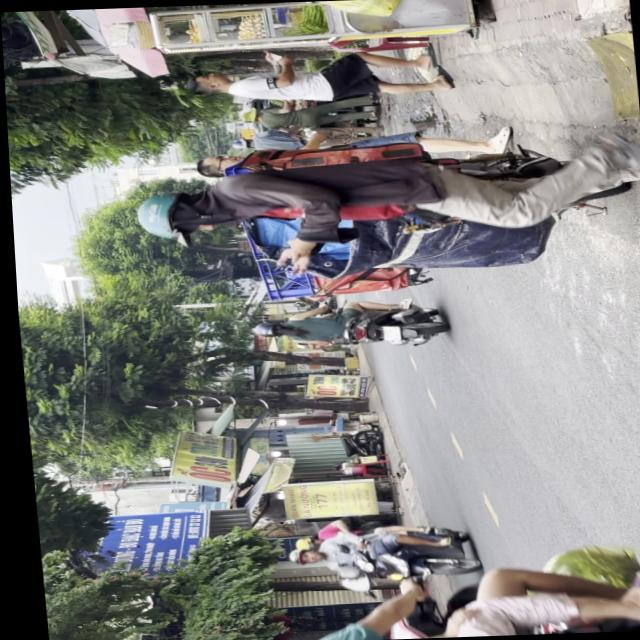helmet: (278, 548, 316, 566), (246, 320, 282, 337), (284, 536, 310, 549)
licenseplate: (276, 520, 475, 590), (244, 296, 443, 352)
nohelmet: (378, 324, 396, 340)
